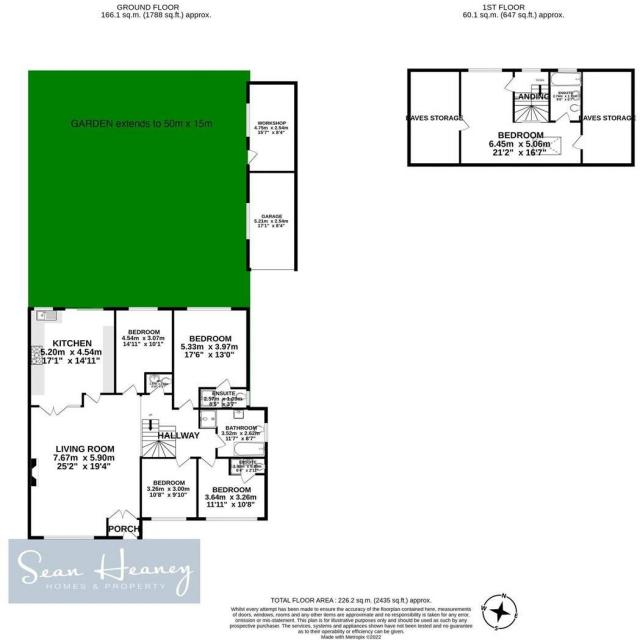DOOR: (570, 133, 584, 151), (178, 398, 195, 410), (121, 383, 138, 395), (215, 378, 231, 390), (175, 457, 191, 469), (200, 456, 217, 467), (85, 393, 102, 404), (216, 433, 227, 449)
DOUBLE DOOR: (37, 405, 69, 417)
ROOM: (28, 384, 143, 540), (458, 67, 584, 167), (26, 306, 116, 417), (172, 307, 250, 410), (114, 307, 174, 395), (196, 457, 268, 521), (140, 457, 199, 521)
SLIDING DOOR: (65, 306, 106, 311)
WINDOW: (205, 516, 258, 522), (43, 535, 95, 540), (467, 67, 503, 74), (245, 201, 251, 240), (185, 307, 232, 311), (246, 103, 251, 137), (557, 66, 579, 73), (149, 517, 187, 521), (520, 67, 543, 73), (128, 307, 159, 311), (33, 306, 54, 311), (264, 422, 269, 442), (246, 390, 251, 406)
